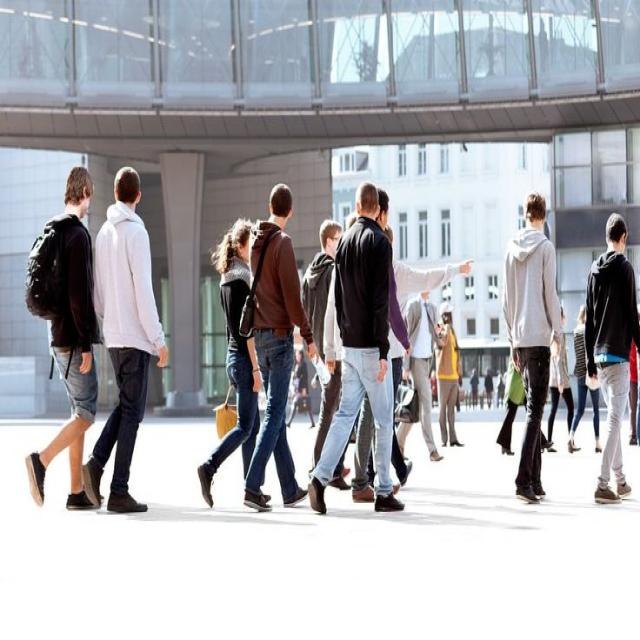person: (309, 179, 407, 512), (82, 166, 168, 512), (24, 165, 101, 510), (196, 217, 272, 508), (501, 192, 563, 502), (584, 211, 639, 503)
